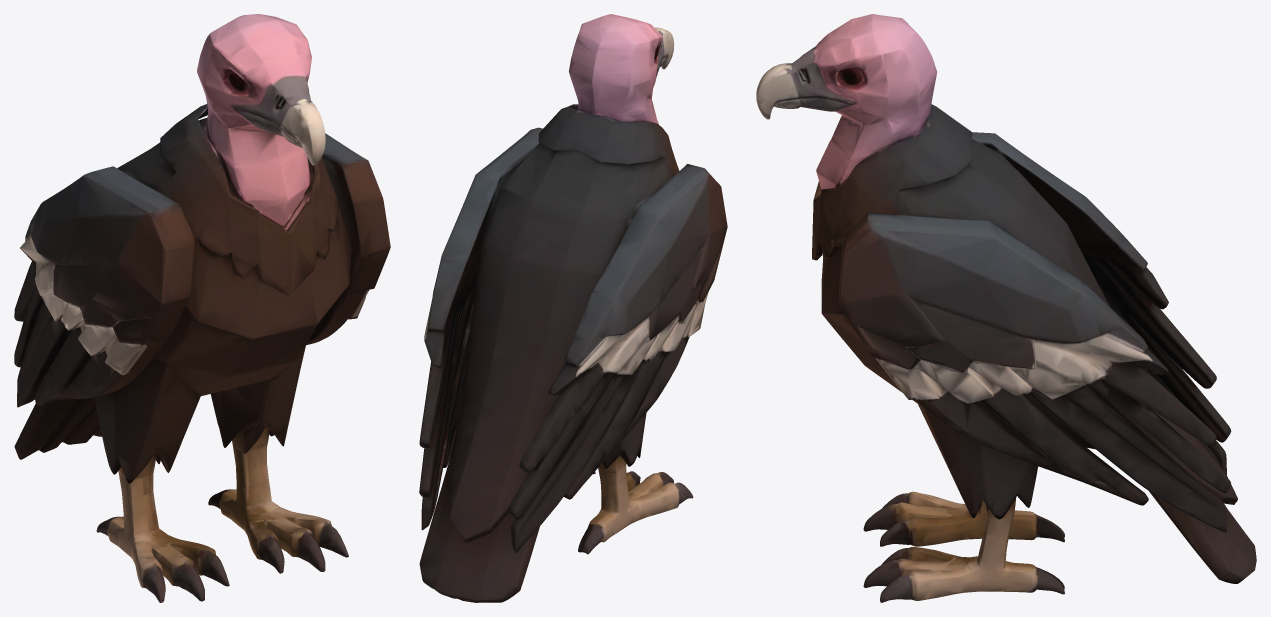
The model's file is vulture.glb.
3 renders of one model, left to right at view 1: azimuth 30°, elevation 25°; view 2: azimuth 150°, elevation 25°; view 3: azimuth 270°, elevation 25°, orthographic. The views are drawn at different scales.
Parts seen in each view (by area): view 1: node_0; view 2: node_0; view 3: node_0.
Part boxes in pixels (x1,y1,x2,y2): node_0: (14, 14, 390, 602); node_0: (419, 14, 727, 602); node_0: (756, 14, 1256, 602).
Bounding box in the file's own units: 0.4447 × 0.9321 × 0.7754.
1 material, 1 textured.
